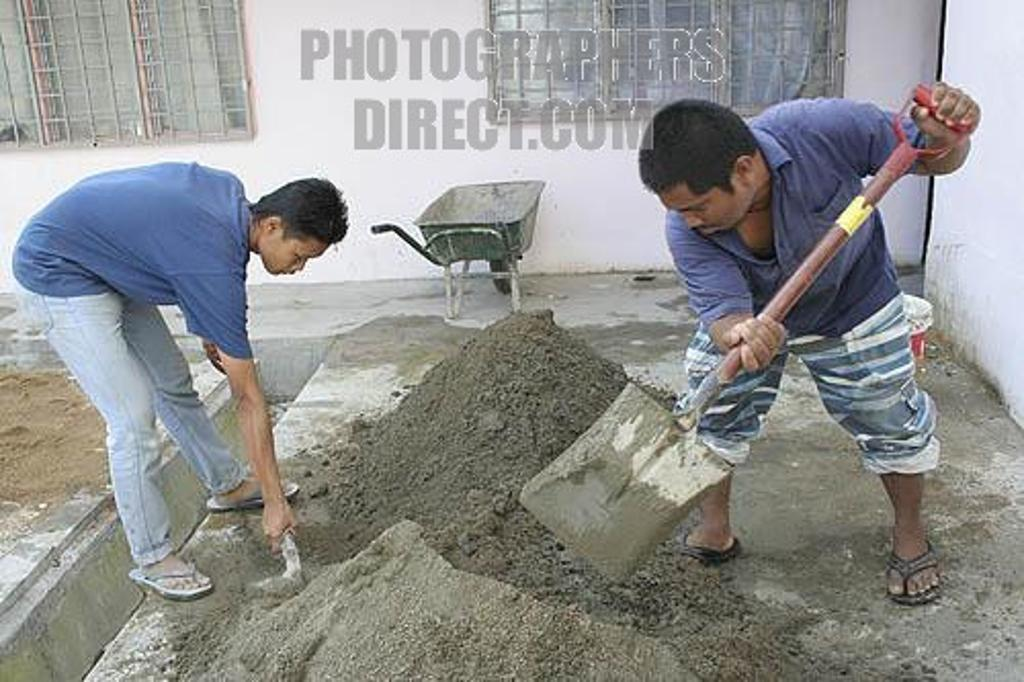face: (652, 168, 750, 240), (258, 216, 336, 274)
